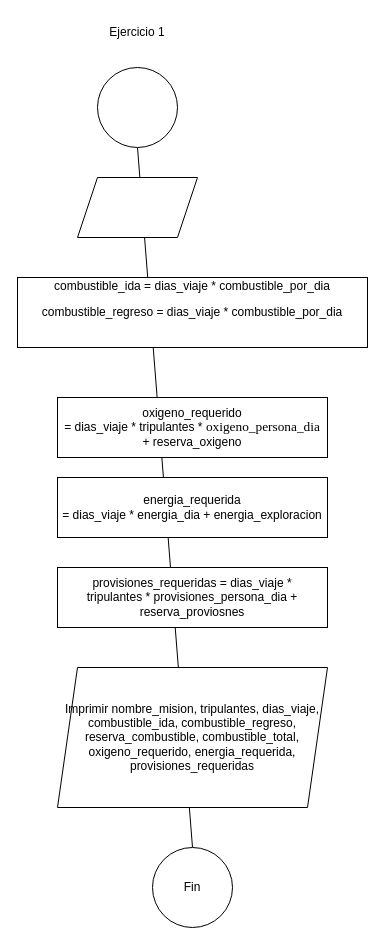
This 385x945 diagram has some shape labels left out. The centre of each missing label's shape, as x and y in pixels:
"Inicio" goes at pixel 137 107.
"leer nombre_mision, tripulantes, dias_viaje" goes at pixel 137 207.
